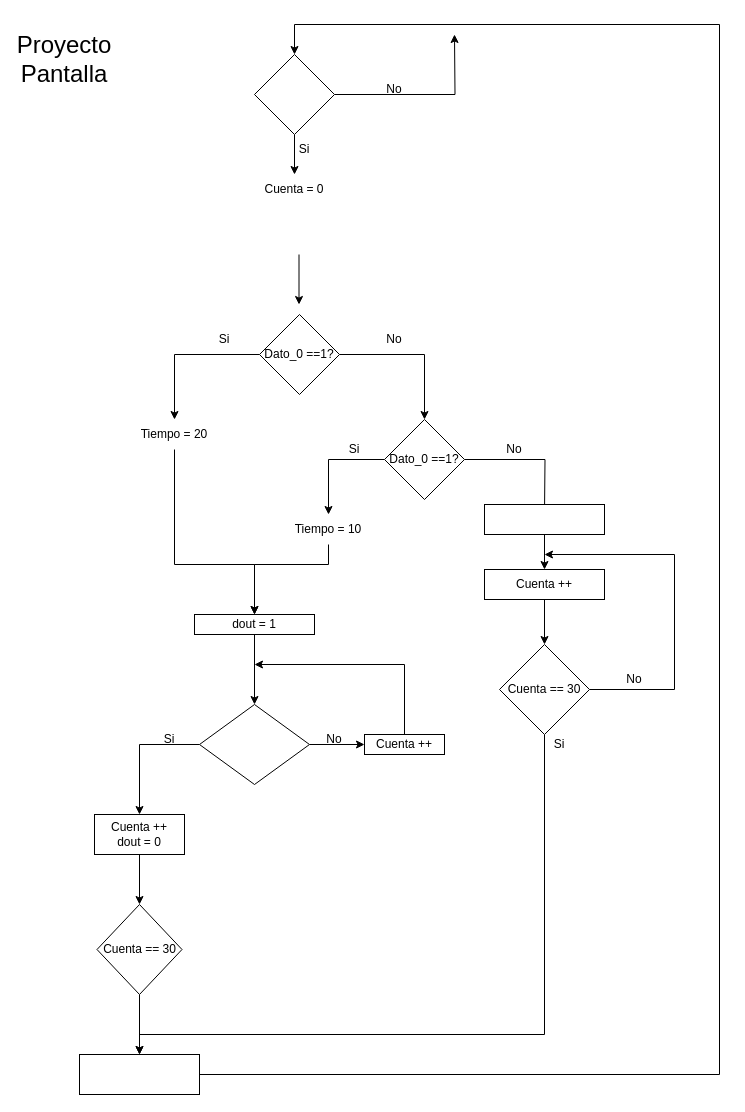
This 745x1112 diagram has some shape labels left out. Each missing label, with the centre of its shape:
Activo ==1 ?: (x=294, y=94)
Cuenta < Tiempo: (x=254, y=744)
Done: (x=139, y=1074)
dout =1: (x=544, y=519)
